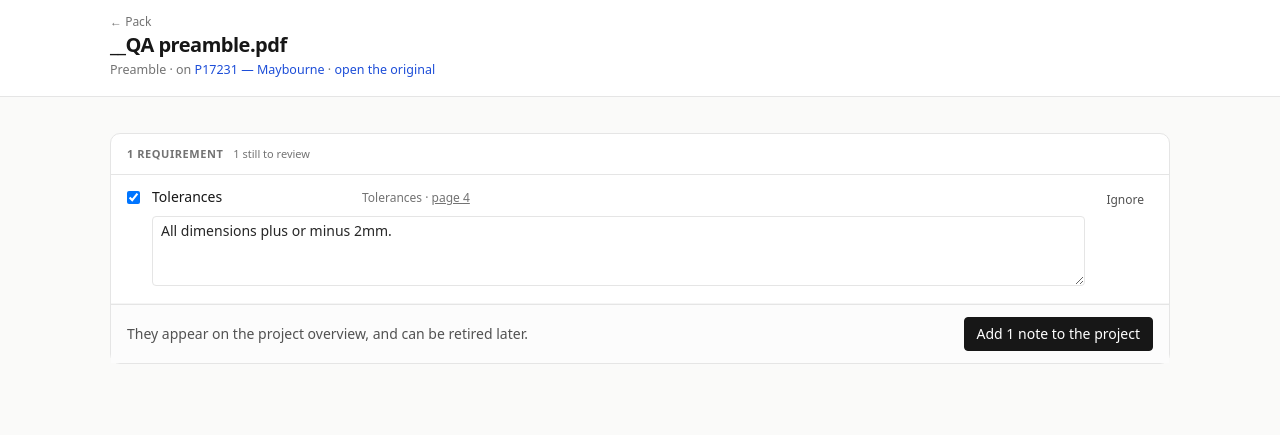
Scenario: the preamble review, when a confirm is refused › VARIANCE: an HTML error page reads as a sentence rather than a parse failure
This screenshot has width=1280, height=435.
Click the button "Add 1 note to the project".
click(1058, 334)  # box [964, 317, 1153, 351]
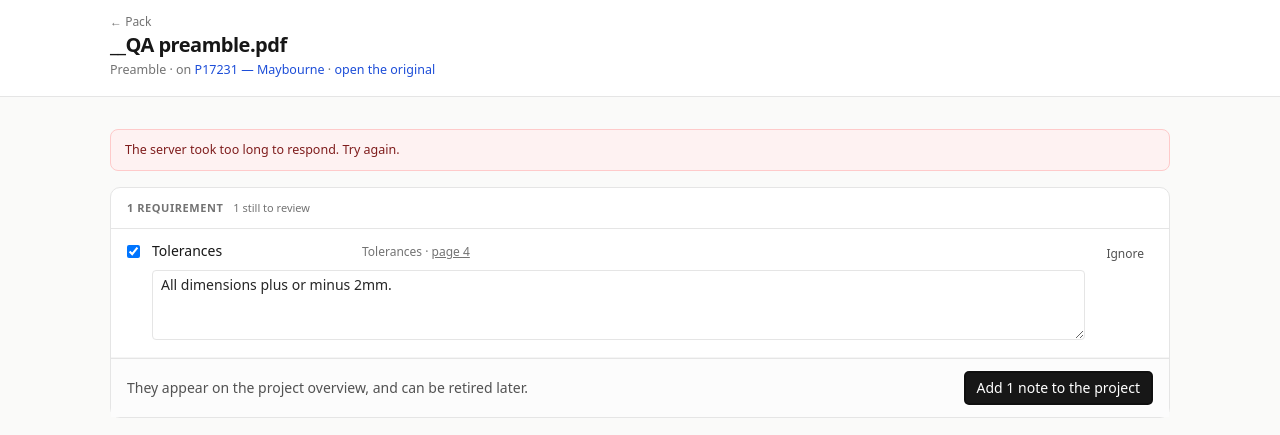
Expected: the button "Add 1 note to the project" is enabled, [964, 371, 1153, 405]
Expected: the text "The server took too long to respond. Try again." is shown, [125, 141, 400, 158]
